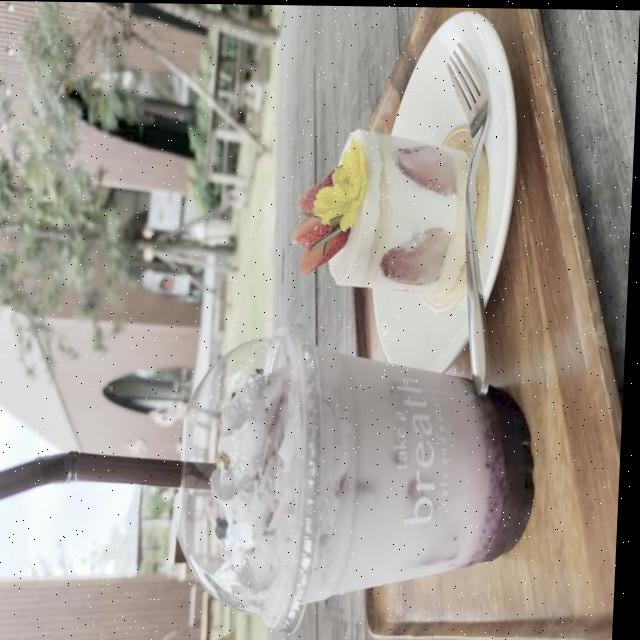cup: (171, 321, 559, 610)
